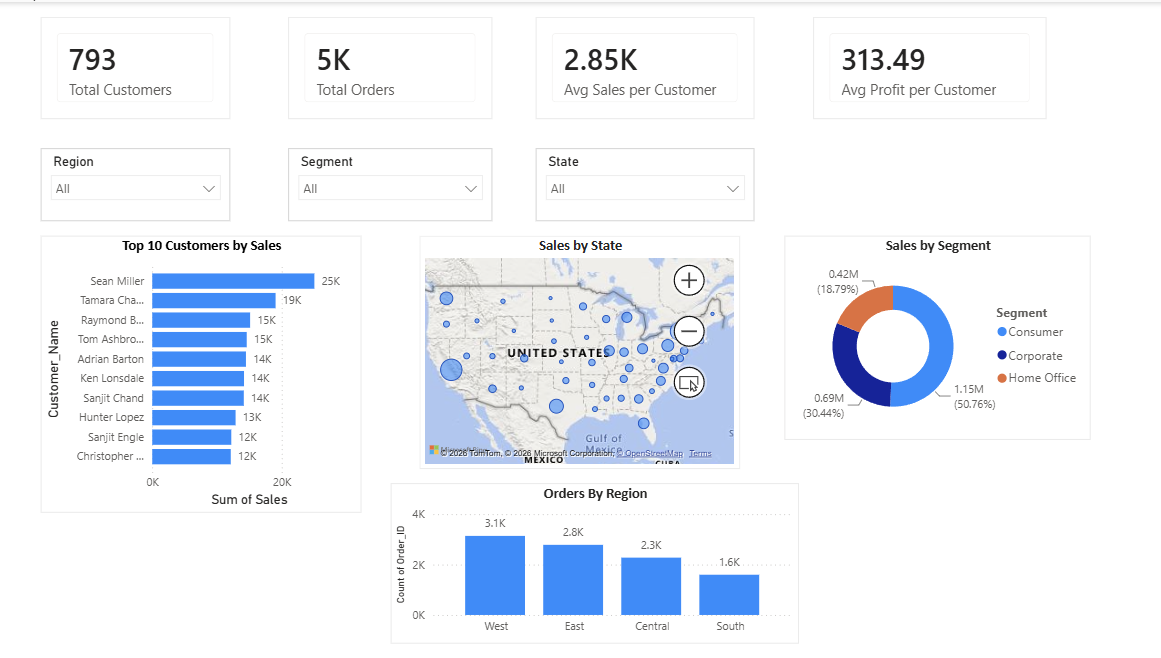

What the dashboard file says about the page in this screenshot:
{"tool":"powerbi","page":{"name":"Page 3","canvas":[1280,720],"ordinal":2},"visuals":[{"type":"cardVisual","fields":{"Data":["Sales_Business_Performance.Total Customers"]},"box":[48,16,208,112],"z":0},{"type":"cardVisual","fields":{"Data":["Sales_Business_Performance.Total Orders"]},"box":[320,16,224,112],"z":1},{"type":"cardVisual","fields":{"Data":["Sales_Business_Performance.Avg Sales per Customer"]},"box":[592,16,240,112],"z":2},{"type":"cardVisual","fields":{"Data":["Sales_Business_Performance.Avg Profit per Customer"]},"box":[896,16,256,112],"z":3},{"type":"clusteredBarChart","title":"Top 10 Customers by Sales","fields":{"Category":["Sales_Business_Performance.Customer_Name"],"Y":["Sum(Sales_Business_Performance.Sales)"]},"box":[48,256,352,304],"z":4},{"type":"map","title":"Sales by State","fields":{"Category":["Sales_Business_Performance.State"],"Size":["Sum(Sales_Business_Performance.Sales)"]},"box":[464,256,352,256],"z":5},{"type":"donutChart","title":"Sales by Segment","fields":{"Category":["Sales_Business_Performance.Segment"],"Y":["Sum(Sales_Business_Performance.Sales)"]},"box":[864,256,336,224],"z":6},{"type":"slicer","fields":{"Values":["Sales_Business_Performance.Region"]},"box":[48,160,208,80],"z":7},{"type":"slicer","fields":{"Values":["Sales_Business_Performance.Segment"]},"box":[320,160,224,80],"z":8},{"type":"slicer","fields":{"Values":["Sales_Business_Performance.State"]},"box":[592,160,240,80],"z":9},{"type":"clusteredColumnChart","title":"Orders By Region","fields":{"Category":["Sales_Business_Performance.Region"],"Y":["CountNonNull(Sales_Business_Performance.Order_ID)"]},"box":[432,528,448,176],"z":10}]}

Visuals, with their boxes in screenshot pixels (x1, y1, x2, y2), scaled from the page's 1280x720 canvas onto the 1161x658 screenshot:
cardVisual - Sales_Business_Performance.Total Customers: bbox=(44, 15, 232, 117)
cardVisual - Sales_Business_Performance.Total Orders: bbox=(290, 15, 493, 117)
cardVisual - Sales_Business_Performance.Avg Sales per Customer: bbox=(537, 15, 755, 117)
cardVisual - Sales_Business_Performance.Avg Profit per Customer: bbox=(813, 15, 1045, 117)
"Top 10 Customers by Sales" clusteredBarChart: bbox=(44, 234, 363, 512)
"Sales by State" map: bbox=(421, 234, 740, 468)
"Sales by Segment" donutChart: bbox=(784, 234, 1088, 439)
slicer - Sales_Business_Performance.Region: bbox=(44, 146, 232, 219)
slicer - Sales_Business_Performance.Segment: bbox=(290, 146, 493, 219)
slicer - Sales_Business_Performance.State: bbox=(537, 146, 755, 219)
"Orders By Region" clusteredColumnChart: bbox=(392, 483, 798, 643)
